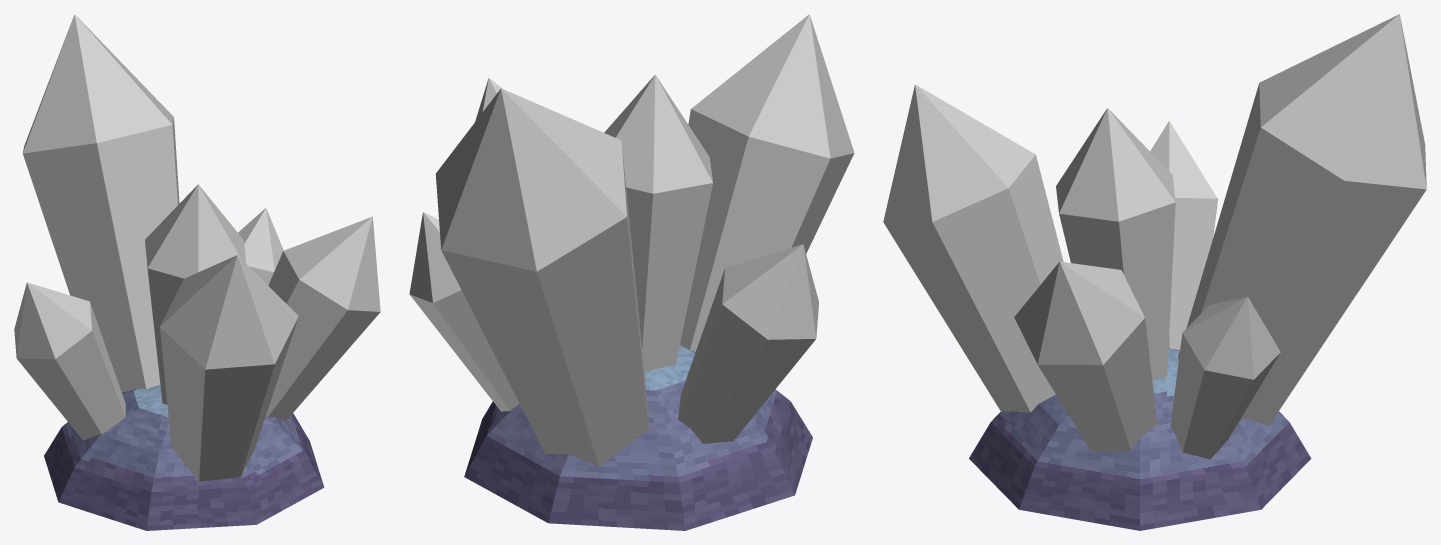
The model's file is Crystal (1).fbx.
3 renders of one model, left to right at view 1: azimuth 30°, elevation 25°; view 2: azimuth 150°, elevation 25°; view 3: azimuth 270°, elevation 25°, orthographic. The views are drawn at different scales.
Parts seen in each view (by area): view 1: polySurface2, polySurface1; view 2: polySurface2, polySurface1; view 3: polySurface2, polySurface1.
Part boxes in pixels (<box>): polySurface2: <box>14,14,380,481</box>; polySurface1: <box>44,385,324,530</box>; polySurface2: <box>409,14,854,466</box>; polySurface1: <box>464,345,812,530</box>; polySurface2: <box>883,14,1426,459</box>; polySurface1: <box>969,348,1311,530</box>.
Size of the model in its own units: 0.9095 by 1.02 by 1.13.
